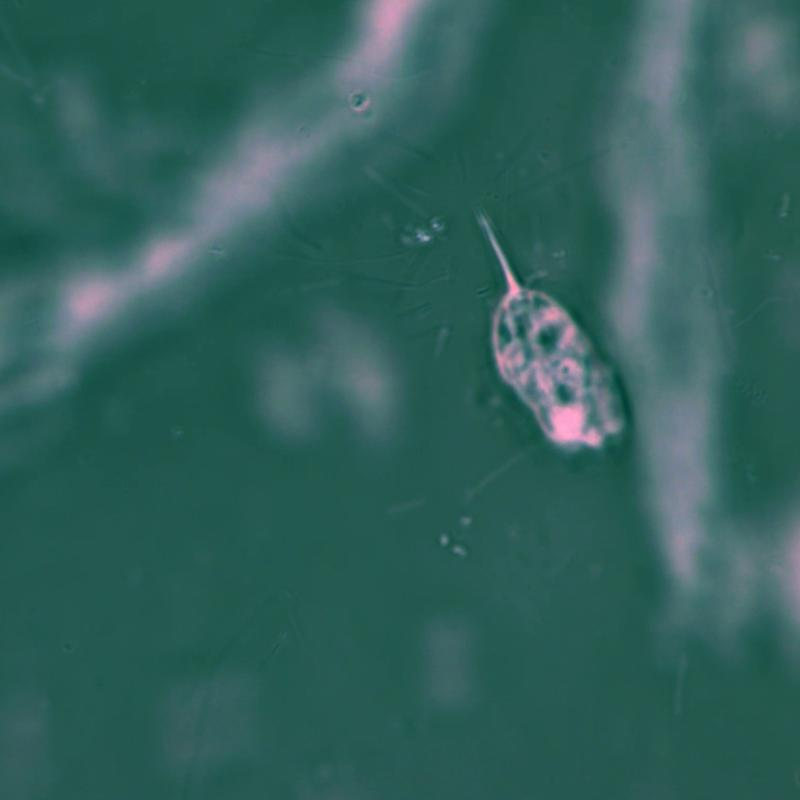depth:20: (432, 184, 657, 500)
